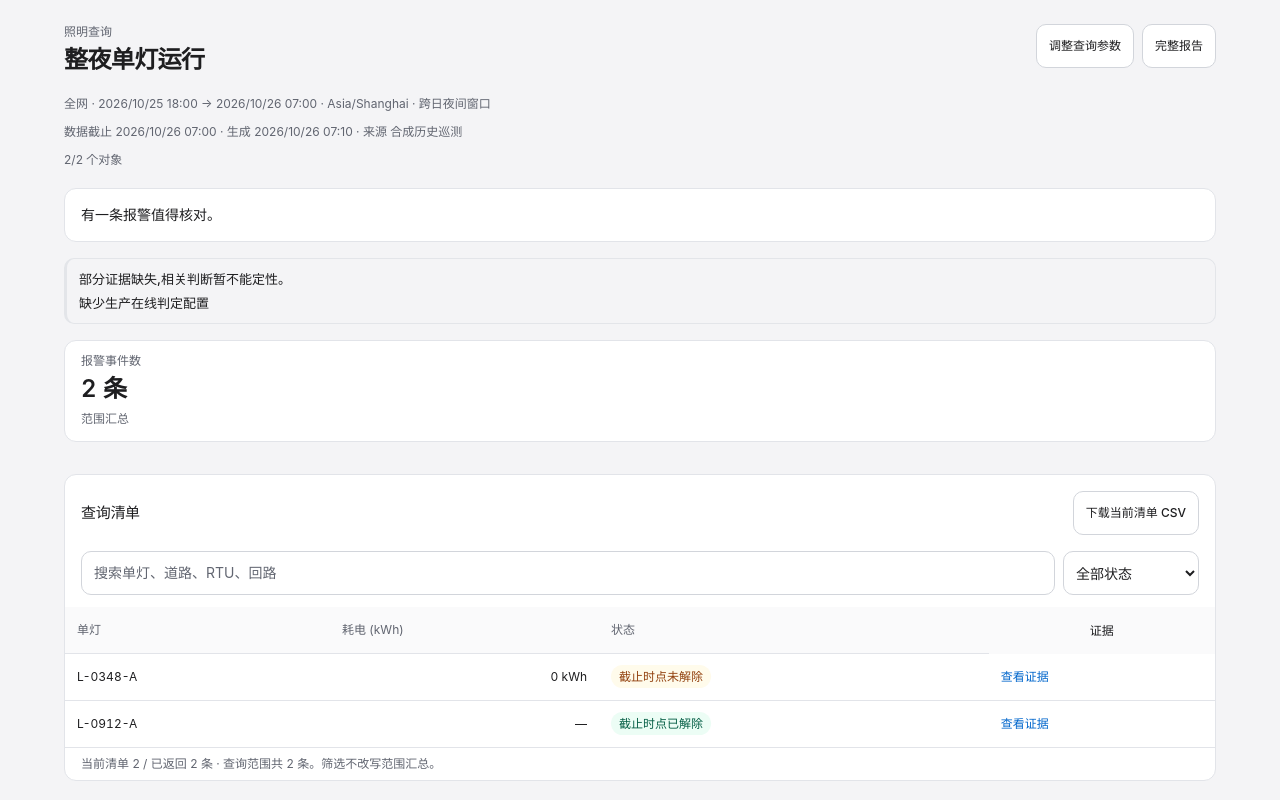
Test: 照明宿主视图 › 筛选当前清单,保留范围指标、来源时点与缺失值
Expected: the element with test id "lighting-provenance" shows "Asia/Shanghai", [327, 96, 409, 111]
Expected: the text "缺少生产在线判定配置" is shown, [79, 295, 209, 311]
Select "截止时点未解除" in the dropdown named "筛选状态" at (1131, 573), box [1063, 551, 1199, 595]
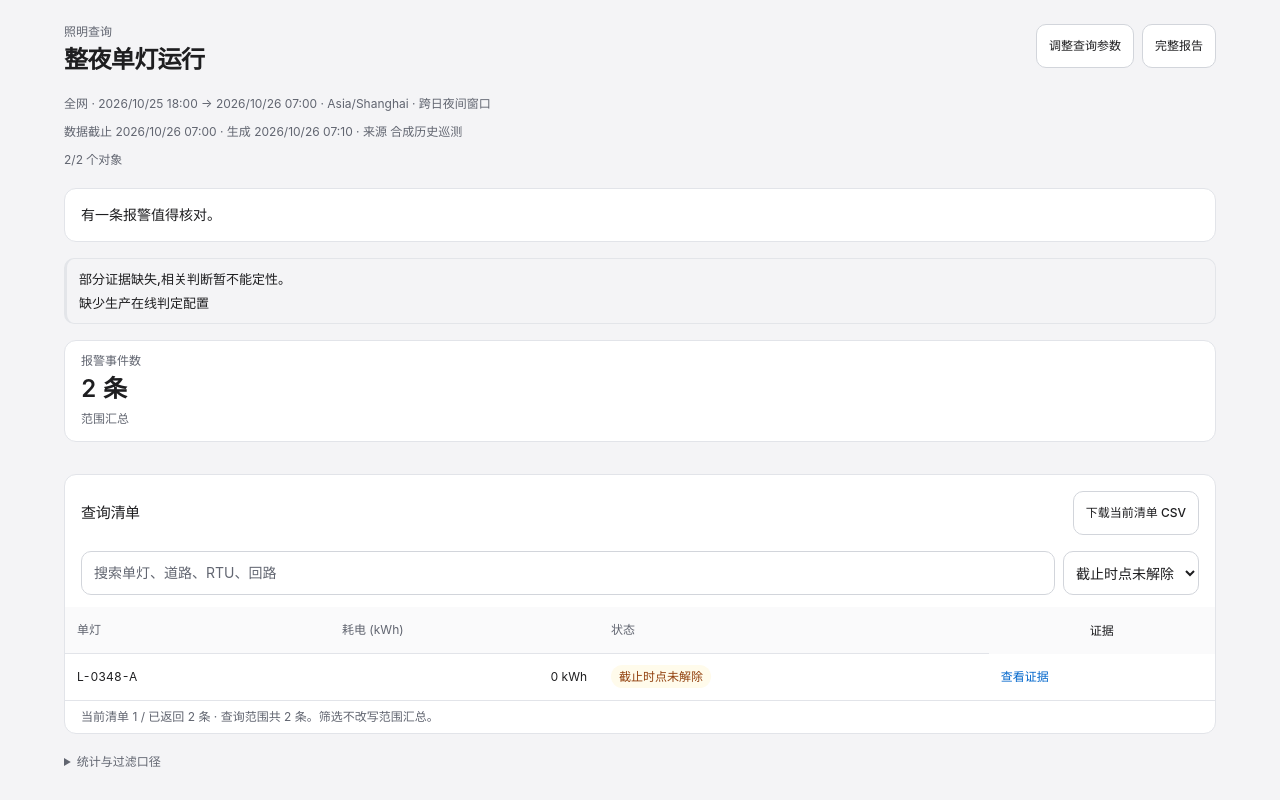
Expected: the element with test id "lighting-metrics" shows "2 条", [81, 374, 127, 403]
Expected: the number of rows with test id "lighting-row" is 1, [65, 654, 1215, 700]
Type "does-not-exist" into the field named "搜索清单" at (568, 573), box [81, 551, 1055, 595]
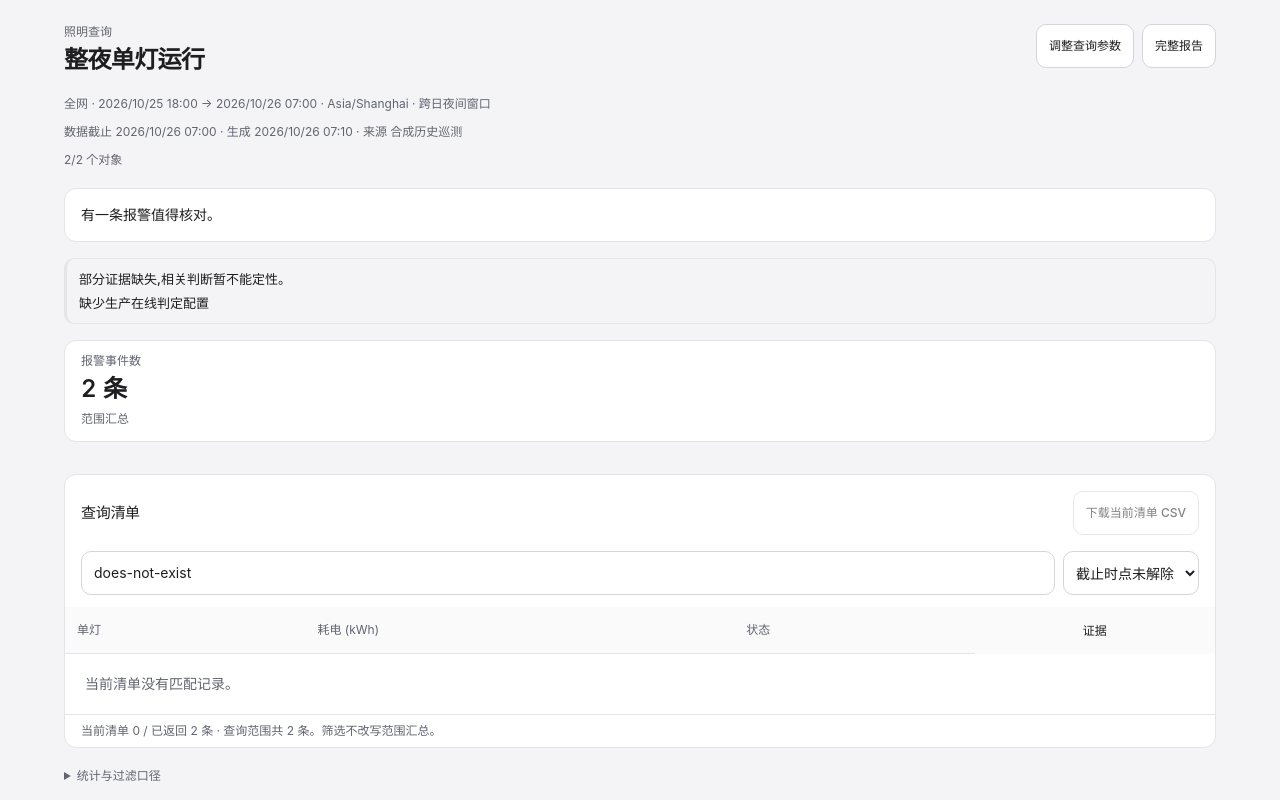
Expected: the text "当前清单没有匹配记录。" is shown, [85, 675, 239, 692]
